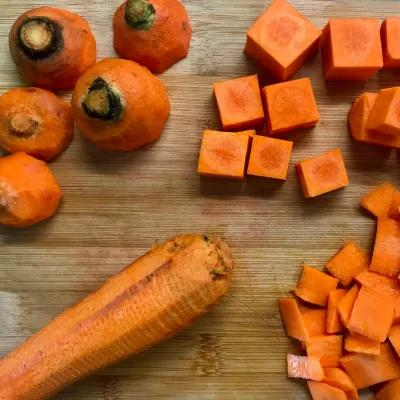organic: (0, 233, 232, 400), (72, 58, 170, 152), (7, 5, 98, 89), (244, 0, 323, 83), (212, 75, 320, 135), (112, 0, 192, 73), (1, 87, 75, 163), (320, 18, 400, 82), (197, 130, 294, 179), (0, 153, 62, 229), (347, 86, 400, 148), (344, 283, 400, 341), (296, 147, 351, 198), (340, 345, 400, 390), (293, 265, 340, 308), (368, 215, 400, 278), (326, 242, 370, 284), (359, 178, 400, 219), (281, 294, 311, 342), (285, 354, 327, 383)
